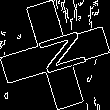N_W: (25, 29, 85, 81)
